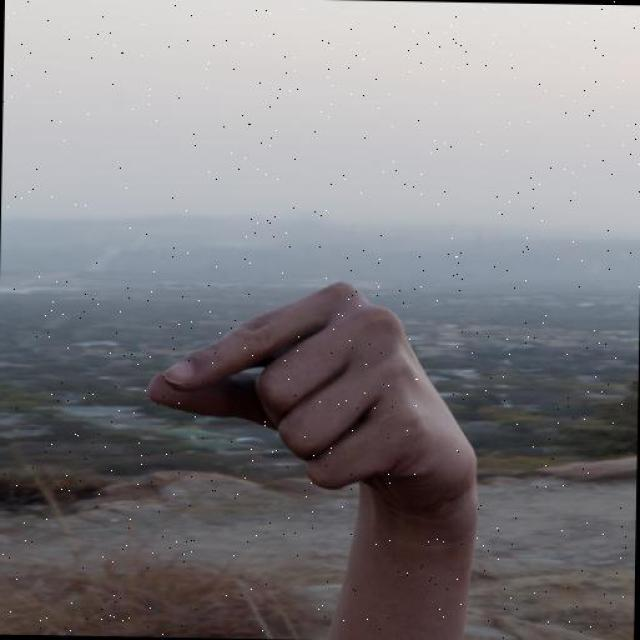G: (140, 272, 497, 502)
